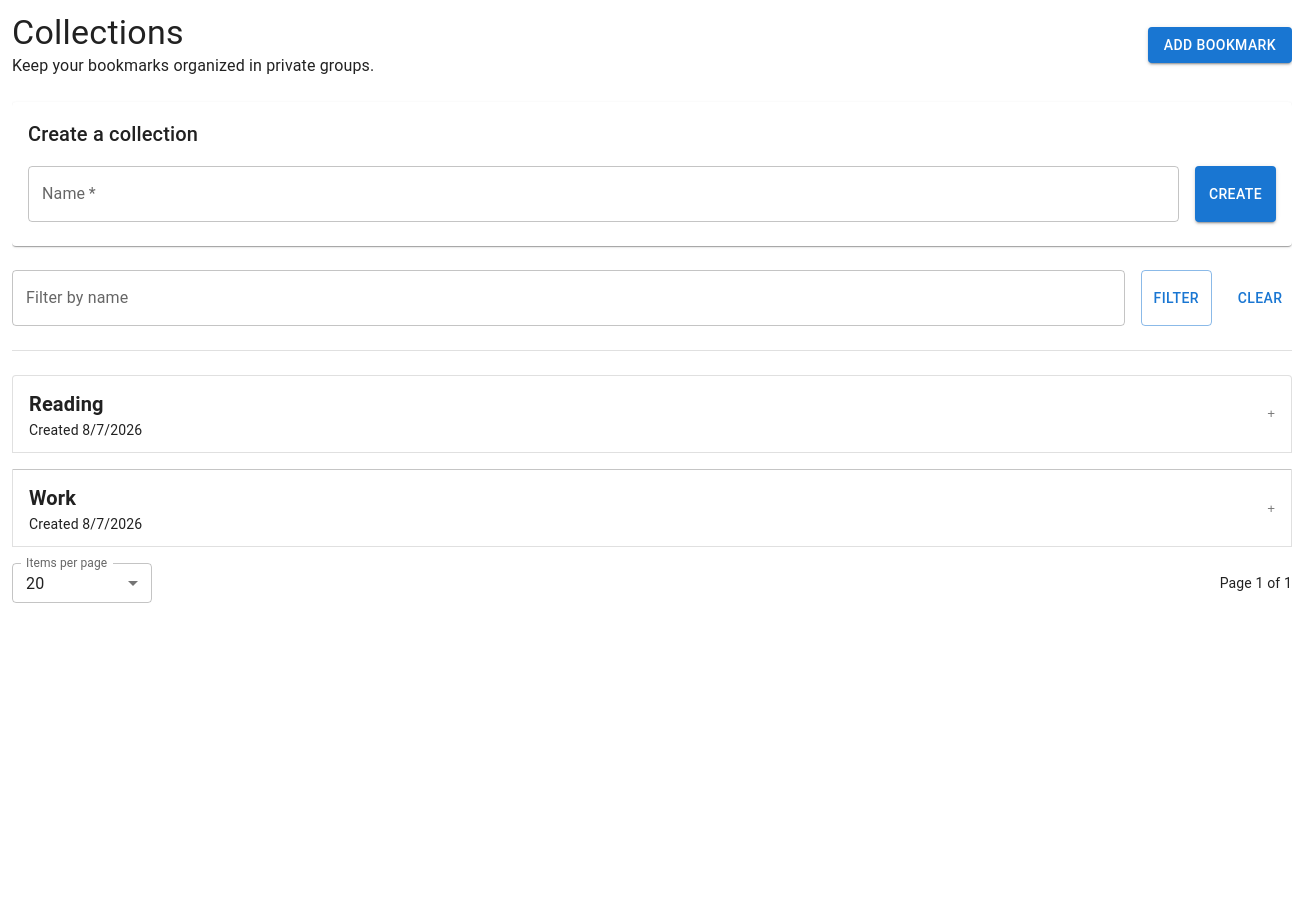
Test: CollectionsPage › caches expanded pages and closes the previous collection when another opens
Check: the heading "Reading" is shown, box [29,392,104,416]
Click the button "Reading Created 8/7/2026 +".
click(66, 404)  # box [13,376,1291,452]
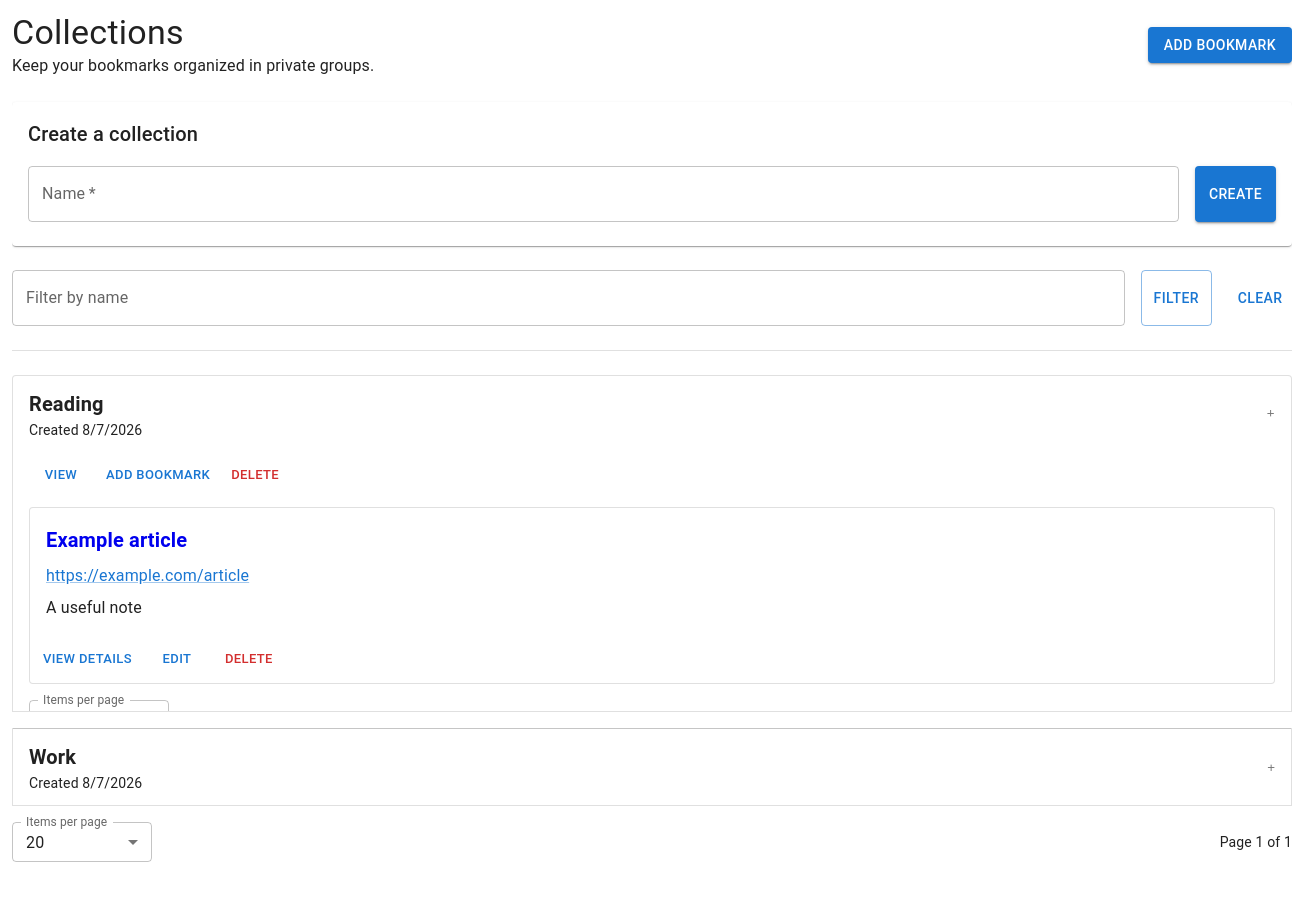
Check: the link "Example article" is shown, box [46,528,187,552]
Click the button "Work Created 8/7/2026 +".
click(53, 757)  # box [13,729,1291,805]
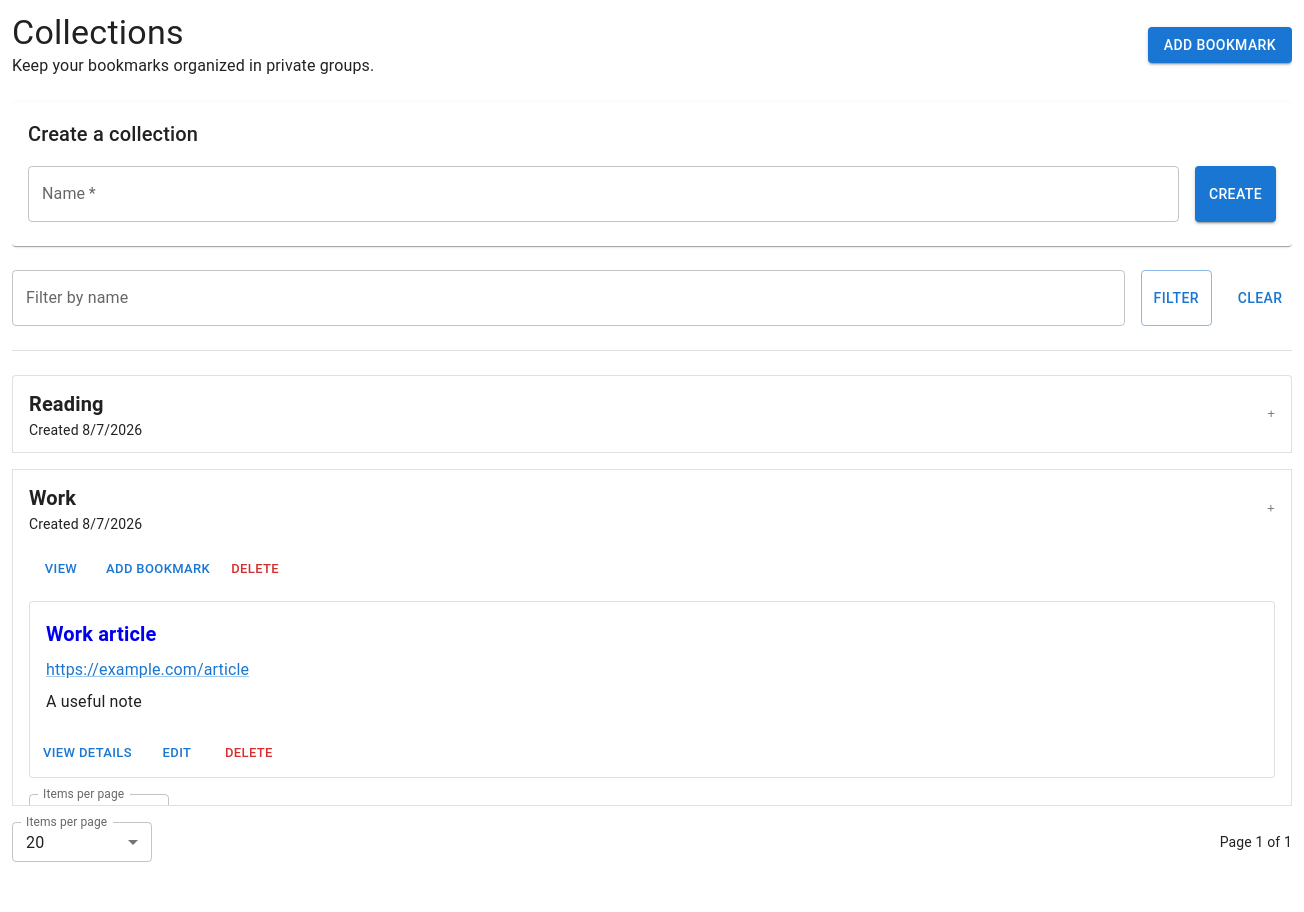
Check: the link "Work article" is shown, box [46,622,156,646]
Check: the link "Example article" is gone
Click the button "Reading Created 8/7/2026 +".
click(66, 404)  # box [13,376,1291,452]
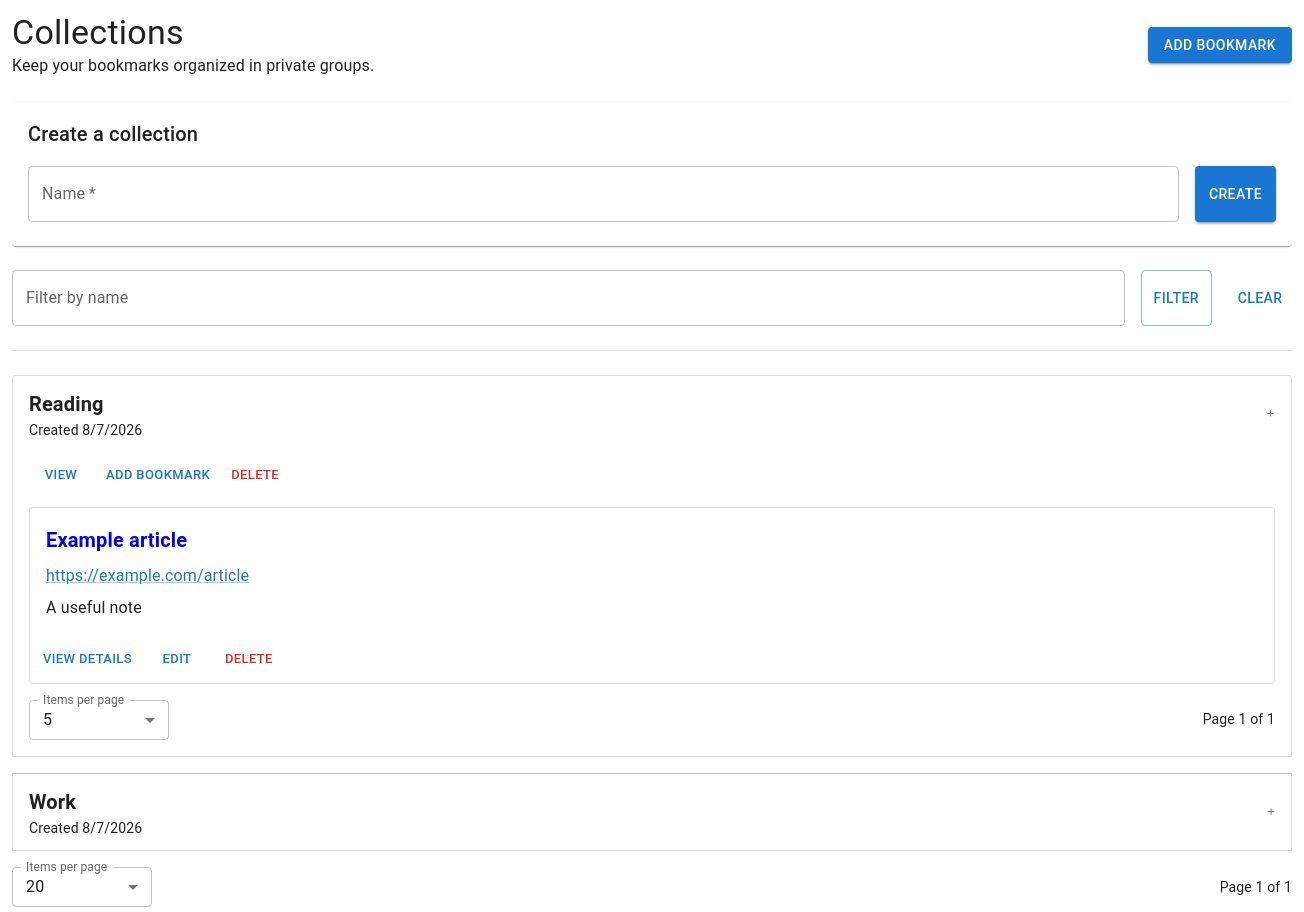
Check: the link "Example article" is shown, box [46,528,187,552]
